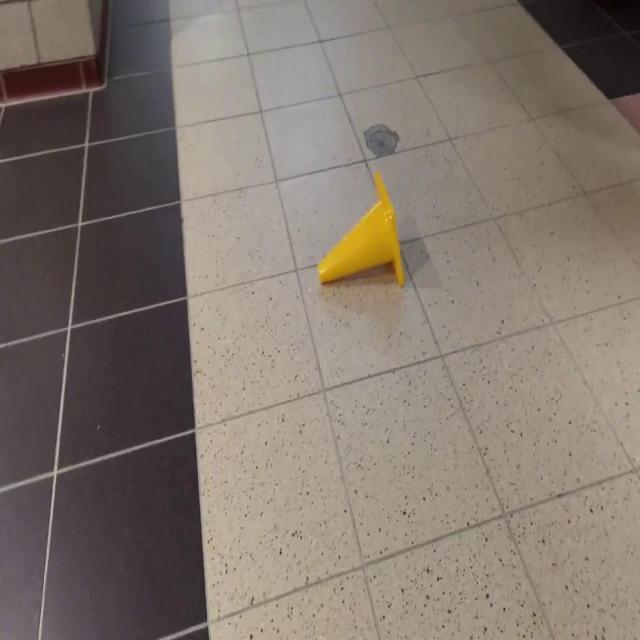frc_cone: (317, 167, 405, 293)
